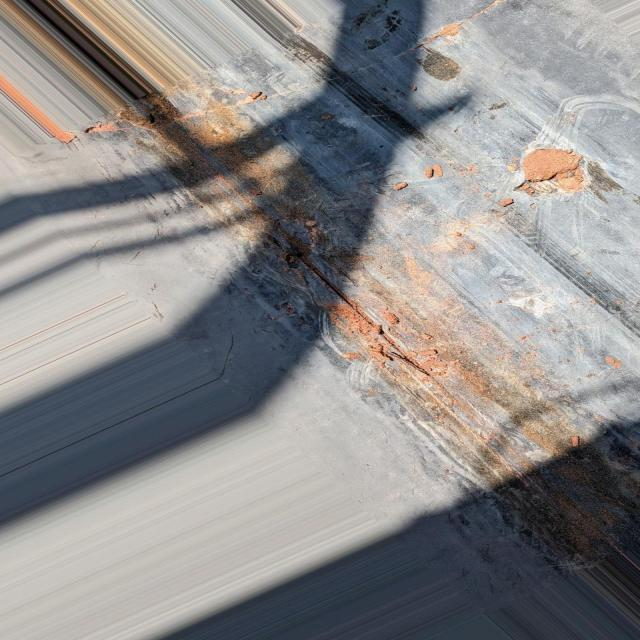Wear: (153, 106, 640, 584)
